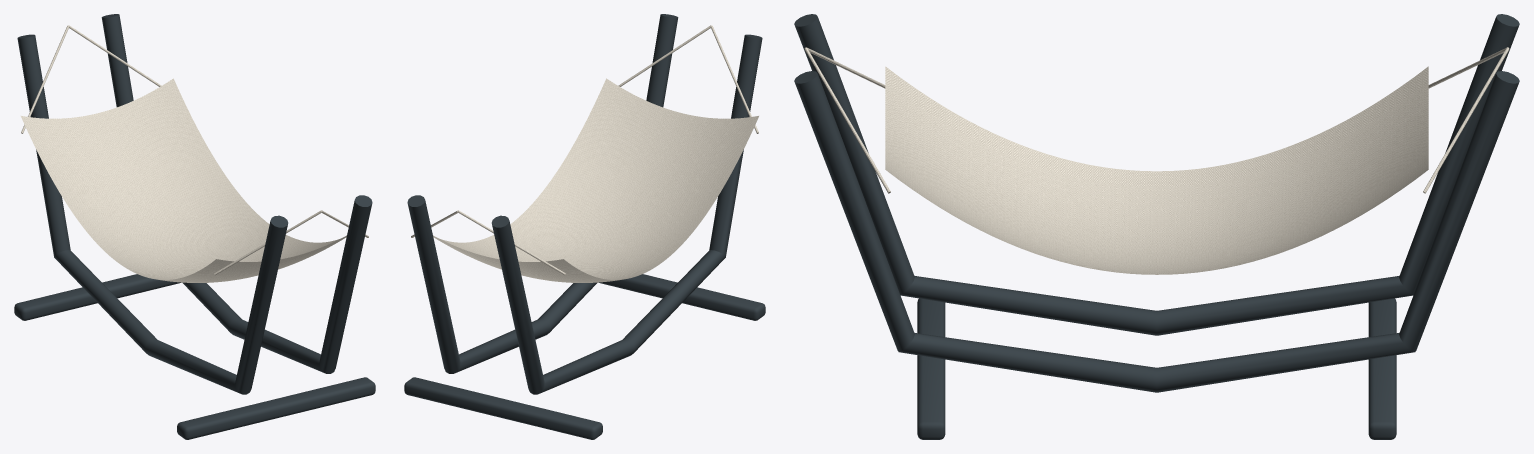
Rendered from hamaca_soporte_metal_base.glb.
The picture shows the model from 3 angles, left to right: view 1: azimuth 30°, elevation 25°; view 2: azimuth 150°, elevation 25°; view 3: azimuth 270°, elevation 25°; orthographic projection. The views are drawn at different scales.
Parts seen in each view (by area): view 1: hamaca_soporte_metal_base; view 2: hamaca_soporte_metal_base; view 3: hamaca_soporte_metal_base.
Part boxes in pixels (<box>): hamaca_soporte_metal_base: <box>14,14,375,439</box>; hamaca_soporte_metal_base: <box>404,14,765,439</box>; hamaca_soporte_metal_base: <box>794,14,1519,439</box>.
Size of the model in its own units: 1.1 by 1.31 by 2.61.
2 materials, 1 textured.
